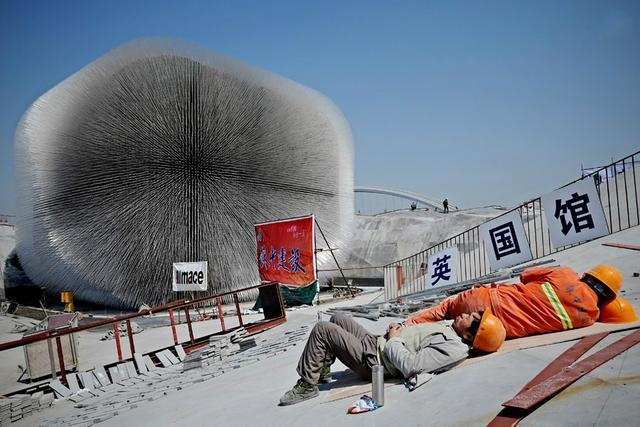helmet: (472, 309, 507, 356), (584, 264, 625, 300), (600, 298, 640, 325)
